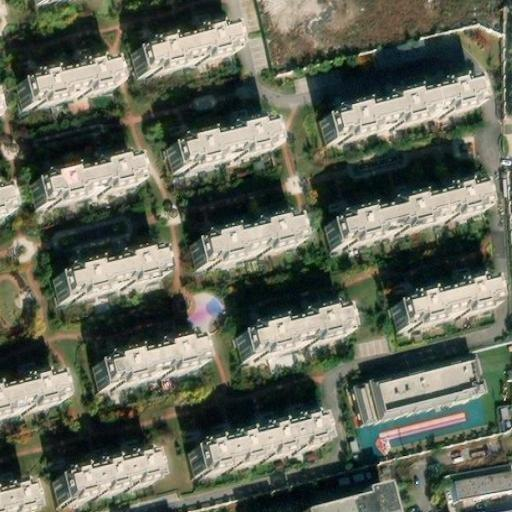building: (320, 81, 474, 146), (323, 189, 477, 253), (356, 353, 488, 424), (184, 418, 321, 482), (388, 278, 499, 334), (186, 215, 296, 271), (53, 247, 163, 303), (160, 120, 268, 175), (11, 57, 120, 111), (130, 28, 238, 82), (26, 157, 134, 211), (233, 315, 341, 369), (92, 341, 200, 395), (52, 456, 152, 509), (300, 479, 403, 512), (0, 377, 65, 424), (454, 469, 512, 500), (0, 181, 18, 217)
